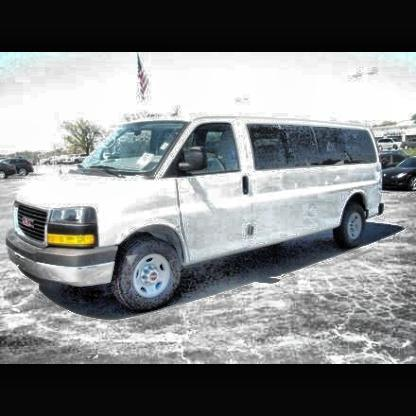GMC Savana Van 2012: (7, 115, 388, 315)
